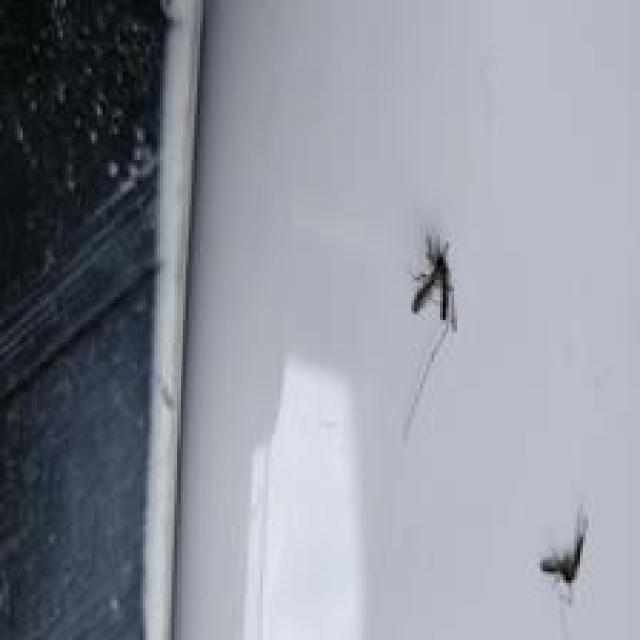Culex: (539, 502, 590, 604)
